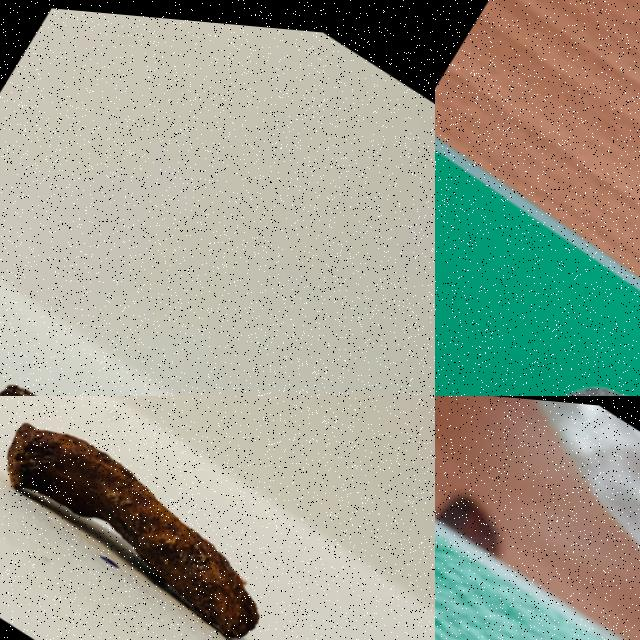Agglomerated_cocoabeans: (435, 256, 639, 395)
Flat_cocoabeans: (0, 396, 412, 639), (0, 276, 385, 395), (435, 540, 563, 639)
